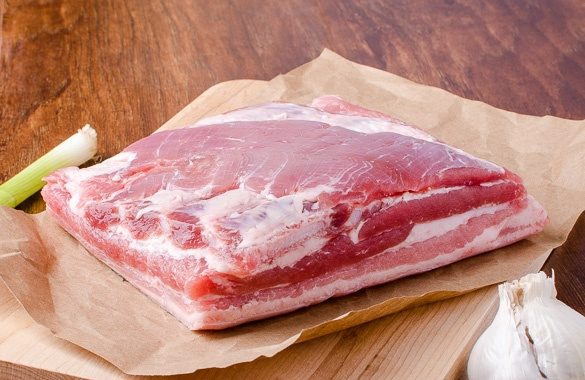bacon: (37, 90, 478, 303)
